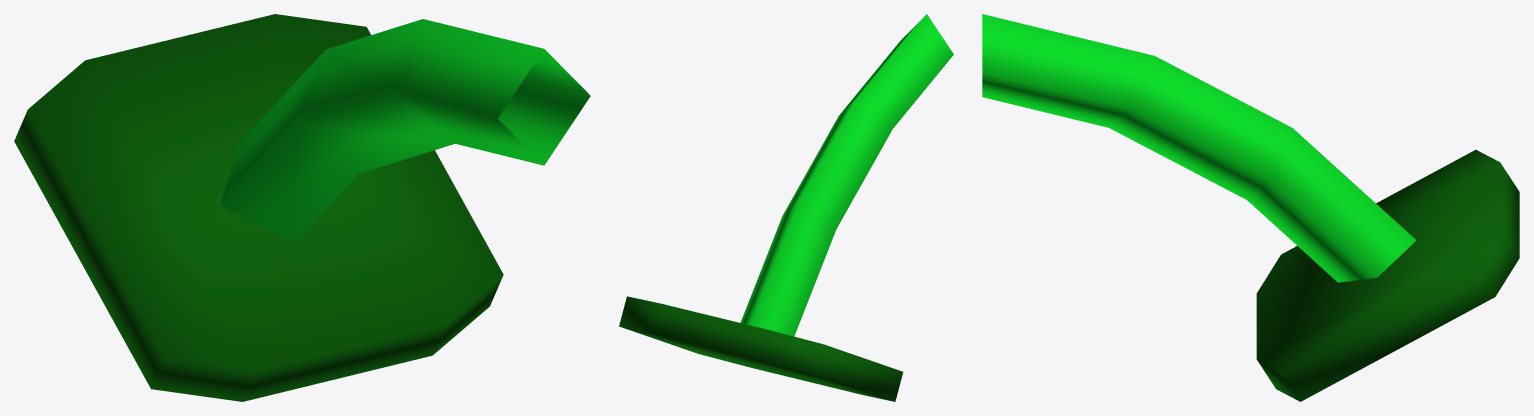
The model's file is VC_BrakesPedal_01.fbx.
3 renders of one model, left to right at view 1: azimuth 30°, elevation 25°; view 2: azimuth 150°, elevation 25°; view 3: azimuth 270°, elevation 25°, orthographic. The views are drawn at different scales.
Parts seen in each view (by area): view 1: VC_BrakesPedal_low; view 2: VC_BrakesPedal_low; view 3: VC_BrakesPedal_low.
Part boxes in pixels (left/top/right/bottom): VC_BrakesPedal_low: left=14, top=14, right=590, bottom=401; VC_BrakesPedal_low: left=619, top=14, right=953, bottom=401; VC_BrakesPedal_low: left=982, top=14, right=1519, bottom=401.
Bounding box in the file's own units: 0.0728 × 0.0988 × 0.1406.
